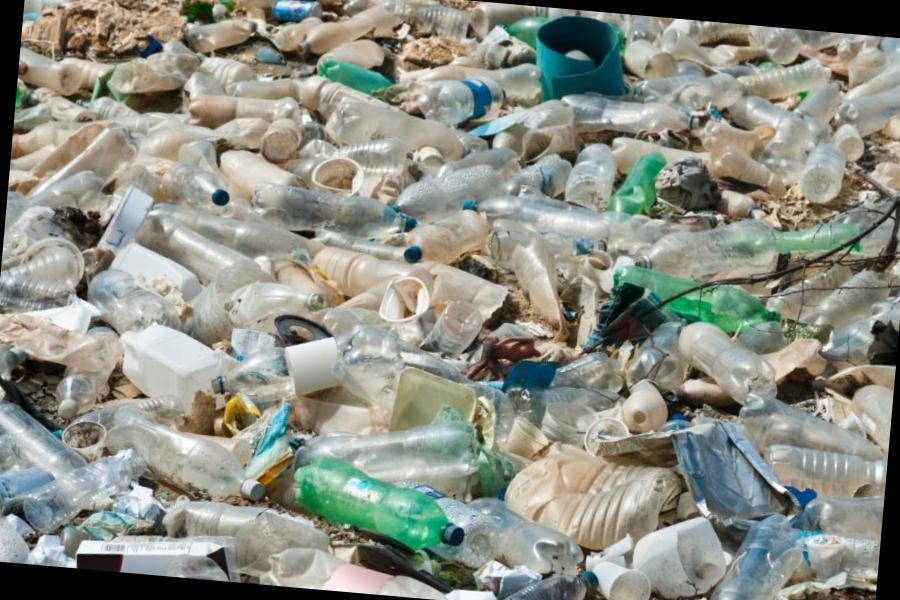trash: (396, 60, 900, 548), (268, 245, 481, 432), (77, 502, 443, 599), (191, 78, 406, 229), (104, 188, 273, 345), (296, 458, 465, 549), (105, 418, 264, 499), (297, 421, 478, 481), (23, 449, 146, 532), (469, 497, 585, 576), (397, 481, 498, 568), (710, 515, 801, 600), (0, 402, 86, 476), (90, 266, 181, 331), (792, 496, 884, 540), (134, 378, 215, 427), (10, 239, 85, 287), (162, 163, 229, 210), (0, 274, 76, 313), (805, 535, 845, 581), (0, 477, 14, 502)
